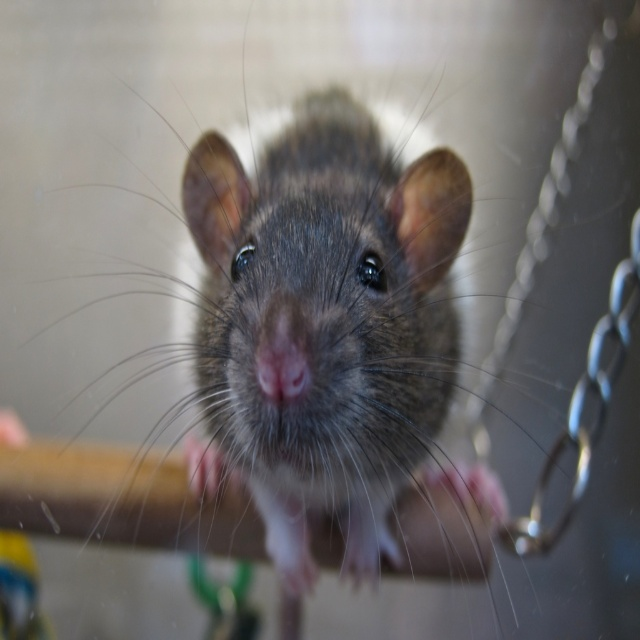Mouse: (22, 88, 555, 639)
